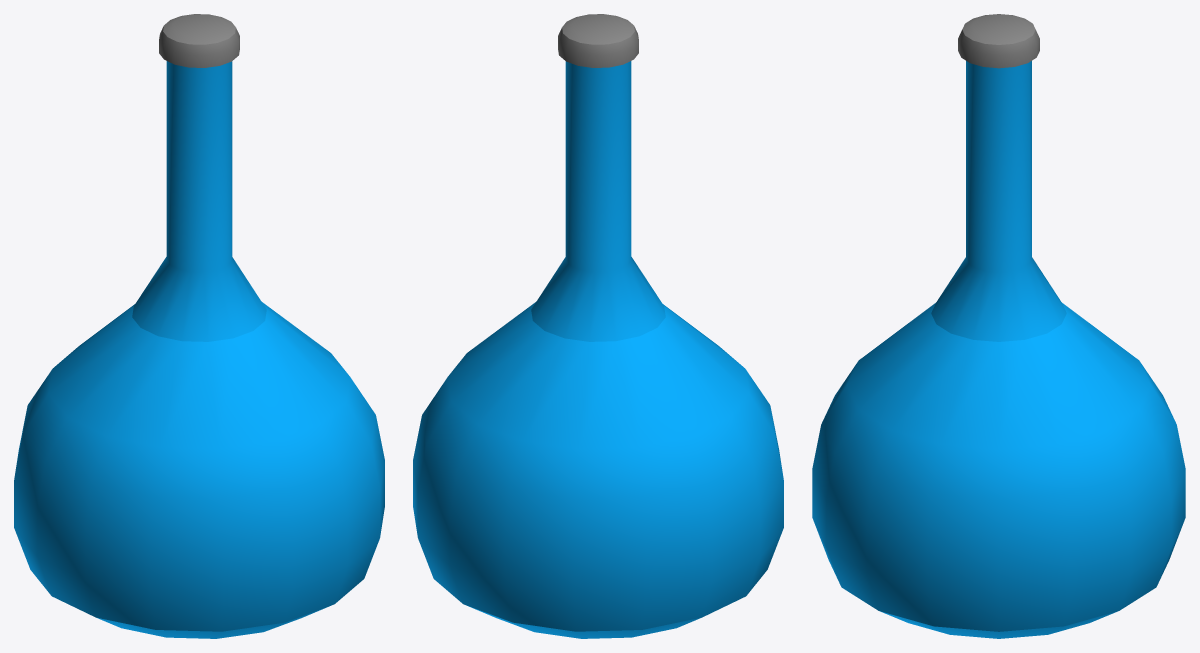
Rendered from Elixer of  Life.fbx.
3 views of the same model, side by side, from view 1: azimuth 30°, elevation 25°; view 2: azimuth 150°, elevation 25°; view 3: azimuth 270°, elevation 25° (orthographic).
Visible parts, largest first — view 1: bottle, cap; view 2: bottle, cap; view 3: bottle, cap.
Part boxes in pixels (bbox=[...]): bottle: bbox=[14, 61, 384, 638]; cap: bbox=[159, 14, 239, 67]; bottle: bbox=[413, 61, 783, 638]; cap: bbox=[558, 14, 638, 67]; bottle: bbox=[812, 61, 1185, 638]; cap: bbox=[958, 14, 1039, 68].
Bounding box in the file's own units: 0.7599 × 1.28 × 0.7599.
